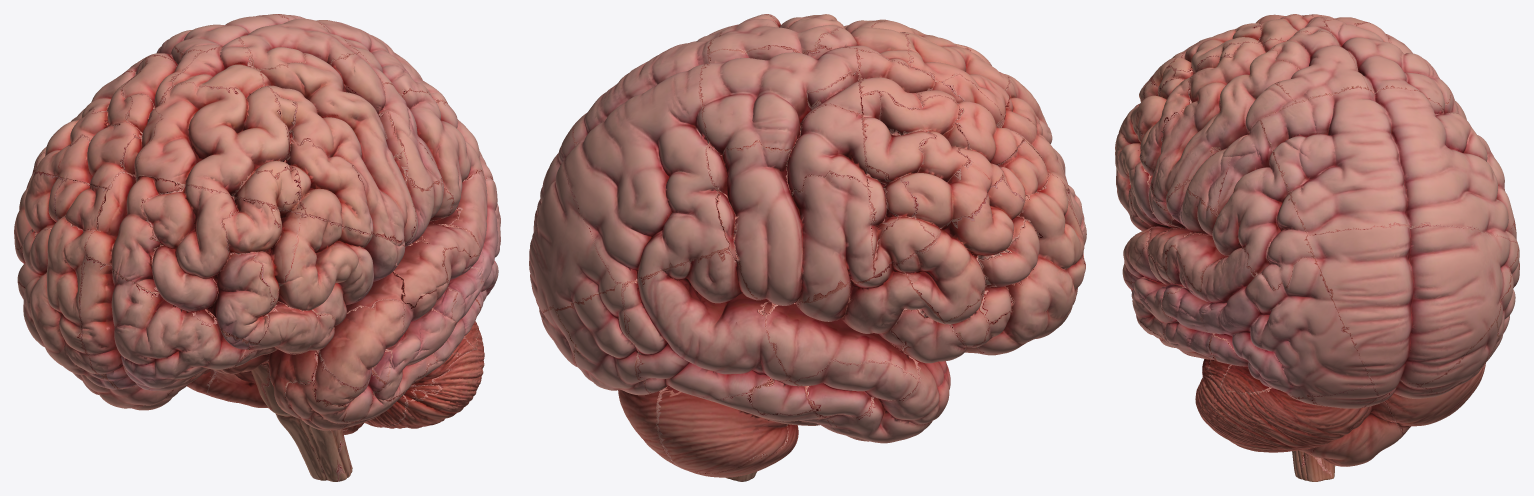
File: organ-brain.glb
3 renders of one model, left to right at view 1: azimuth 30°, elevation 25°; view 2: azimuth 150°, elevation 25°; view 3: azimuth 270°, elevation 25°, orthographic. The views are drawn at different scales.
Visible parts, largest first — view 1: rightCerebrum, leftCerebrum, cerebellum, brainstem; view 2: leftCerebrum, rightCerebrum, cerebellum; view 3: leftCerebrum, rightCerebrum, cerebellum, brainstem.
Part boxes in pixels (x1,y1,x2,y2): rightCerebrum: (35, 46, 500, 430); leftCerebrum: (14, 14, 482, 410); cerebellum: (187, 380, 463, 438); brainstem: (288, 422, 363, 481); leftCerebrum: (529, 17, 1064, 464); rightCerebrum: (696, 14, 1086, 338); cerebellum: (635, 430, 796, 477); leftCerebrum: (1293, 14, 1519, 443); rightCerebrum: (1115, 14, 1293, 443); cerebellum: (1211, 394, 1471, 456); brainstem: (1292, 440, 1398, 481).
Size of the model in its own units: 0.9804 by 0.9007 by 0.8078.
Materials: 1 (1 with a texture image).
